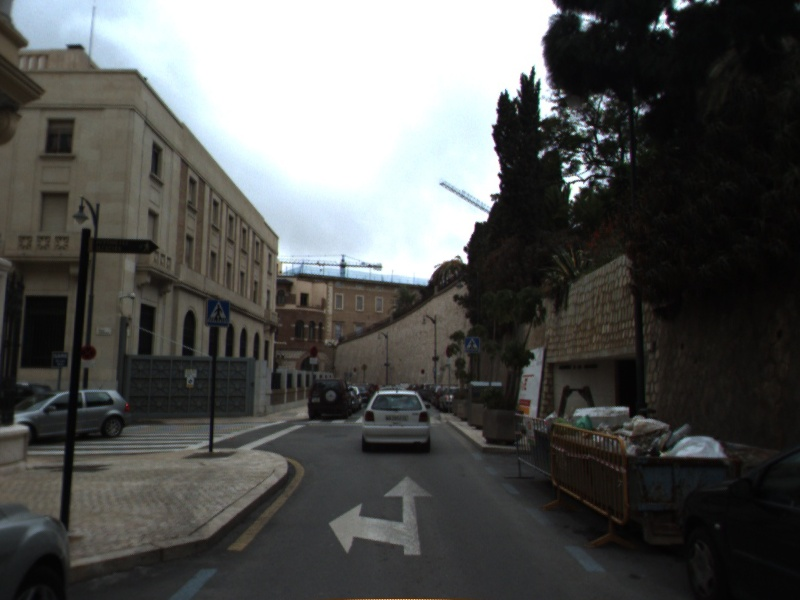STRAIGHT_LEFT: (327, 474, 435, 557)
